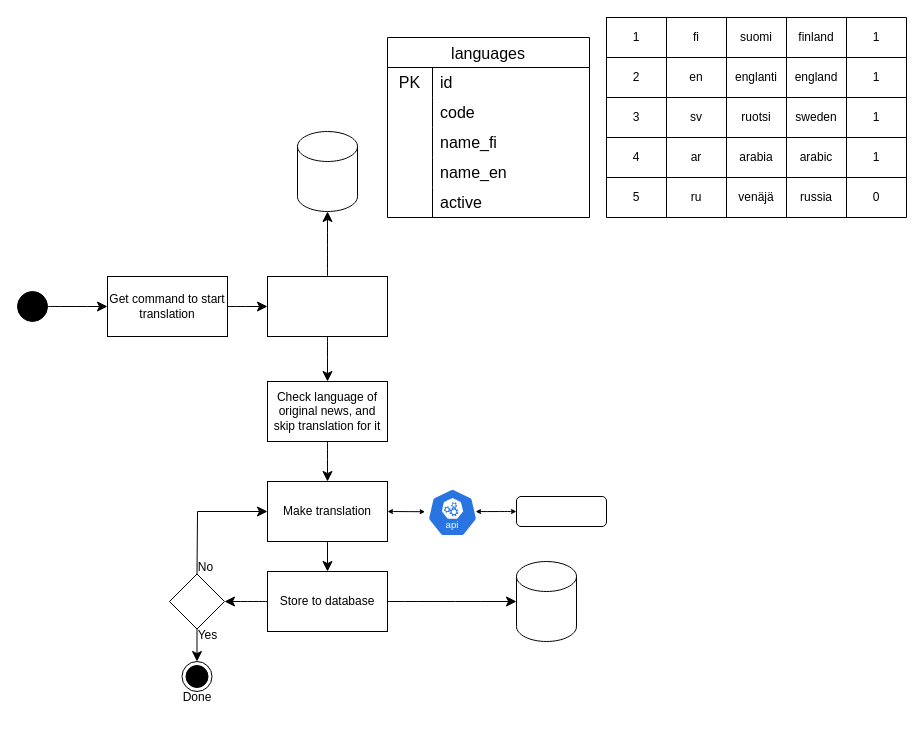
Image size: 924x730. Some labels were removed from this diagram. The shapes that lost their labels are listed below. From the top down, each one's box as (x1, y1, x2, y2) in pixels, then its label:
(266, 276, 388, 336): Check db which languages is used
(516, 496, 606, 526): LLM
(168, 573, 224, 629): all languages done?
